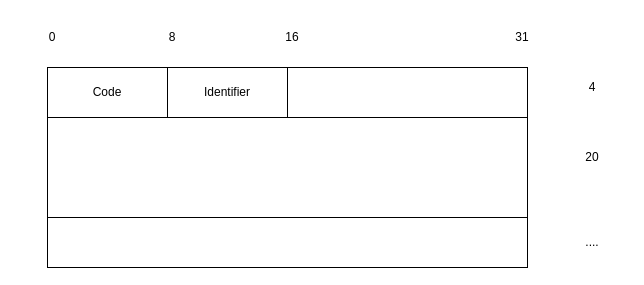
The diagram is 644 pixels wide and 285 high, and some of its shapes have lost their labels. Here are the shapes that lost their labels. From the top down, the centre of each, then its label:
At [407,92]: "Length".
At [287,177]: "Authenticator".
At [287,242]: "Attributes".
